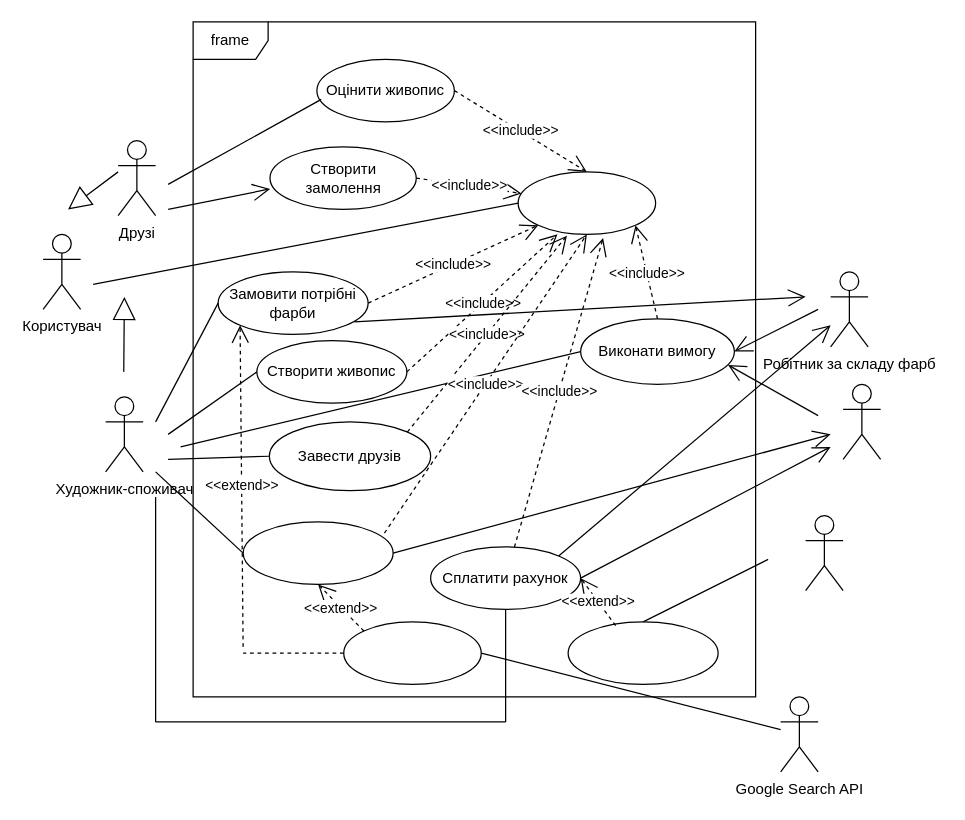
The diagram is 965 pixels wide and 820 high, and some of its shapes have lost their labels. Here are the shapes that lost their labels. From the top down, the centre of each, then its label:
[586,202]: Авторизувати користувача
[861,421]: Спеціаліст з освітлення
[317,552]: Сформувати вимоги з освітлення
[823,552]: сервіс E-Pay
[411,652]: Cтворити Online-запит
[642,652]: Оплатити через E-сплату
